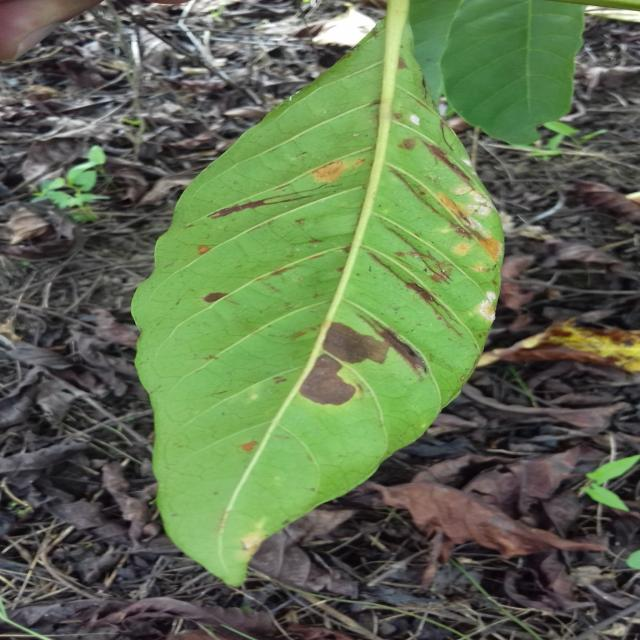Enfermedad-Roya: (130, 0, 506, 592)
